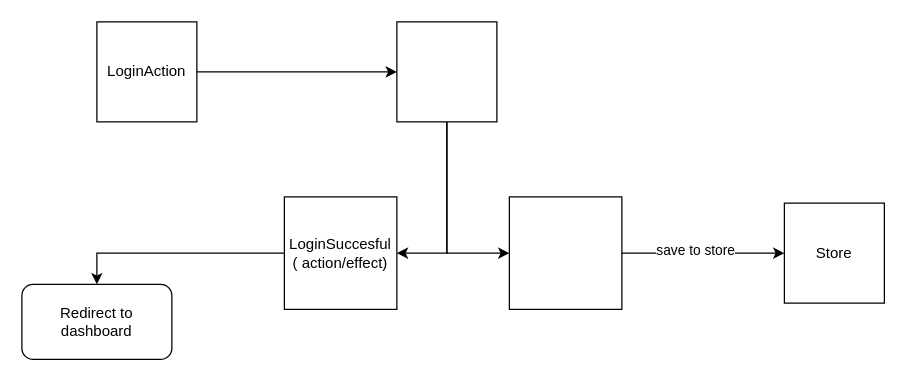
Some shapes in this 906 by 381 pixel diagram are drawn without their labels. Here are the shapes that lost their labels. From the top down, the centre of each, then its label:
point 446,71: LoginEffect
point 565,252: LoginFinished (action)
